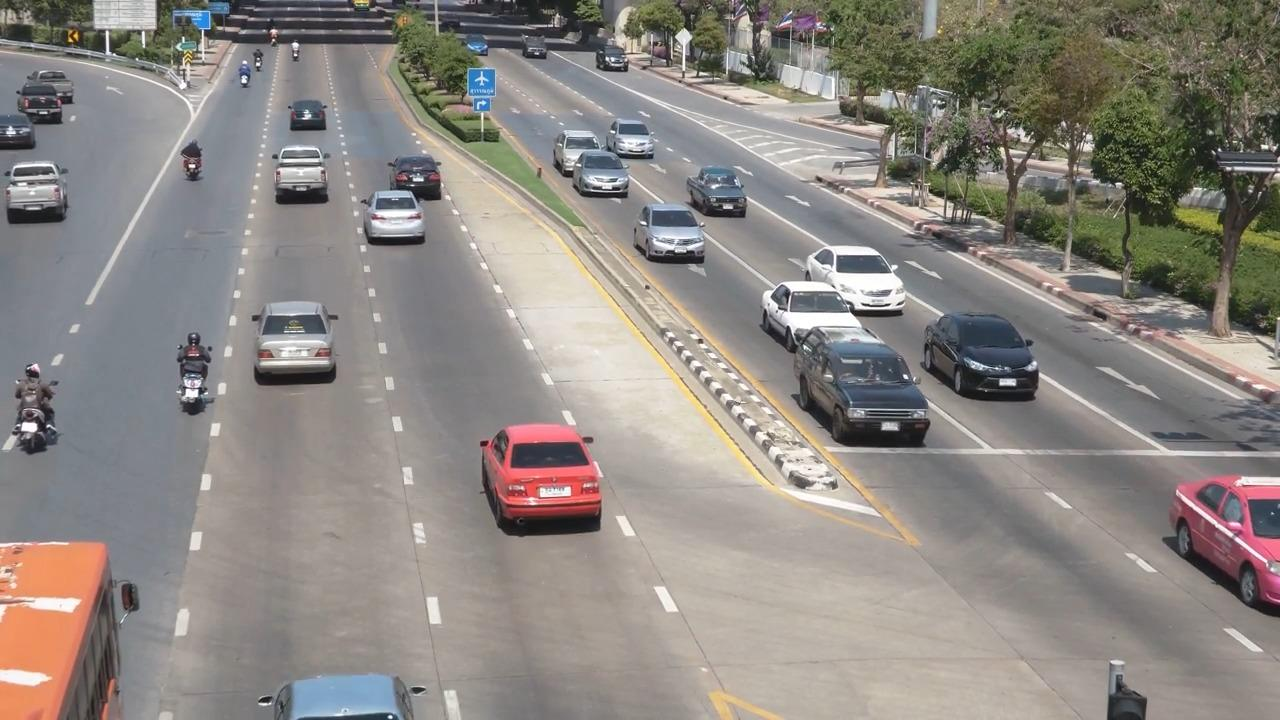CAR: (468, 409, 639, 560), (1148, 461, 1280, 620), (795, 337, 947, 463), (907, 299, 1043, 407), (253, 291, 356, 402), (758, 276, 876, 352), (806, 245, 915, 318), (0, 160, 79, 258), (631, 201, 718, 272), (267, 137, 348, 213), (349, 184, 429, 248), (678, 160, 754, 221), (390, 145, 453, 202), (276, 90, 341, 140), (16, 75, 65, 137), (570, 150, 627, 201), (602, 118, 658, 166), (546, 125, 606, 167), (30, 69, 77, 109), (592, 46, 635, 71)
MOTOR: (147, 312, 227, 433), (2, 343, 72, 461), (169, 131, 223, 193), (283, 32, 313, 73), (232, 61, 260, 97)
